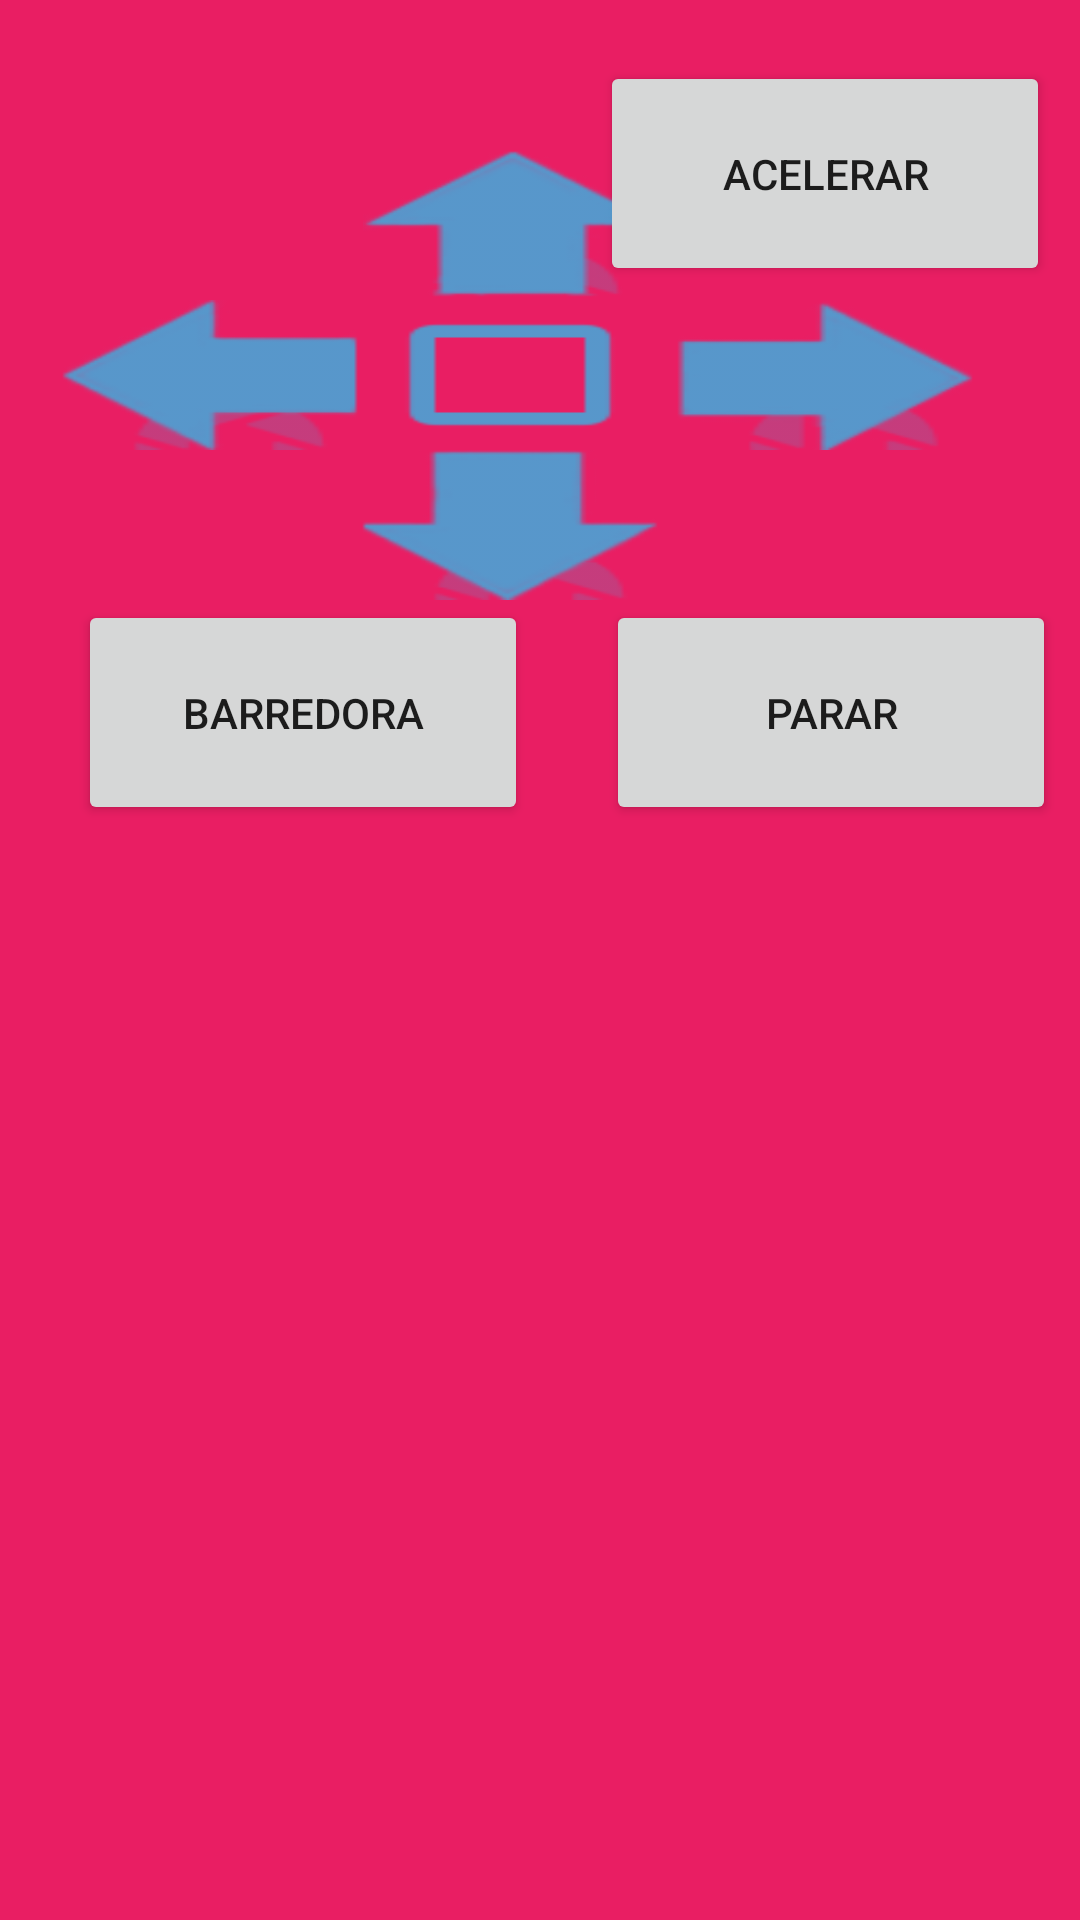

Point at icon controls on the screen. Image size 1080px x 1920px, points as (x=x, y=y).
flecha abajo: (x=509, y=525)
flecha arriva: (x=514, y=223)
flecha derecha: (x=825, y=377)
flecha izquierda: (x=210, y=375)
